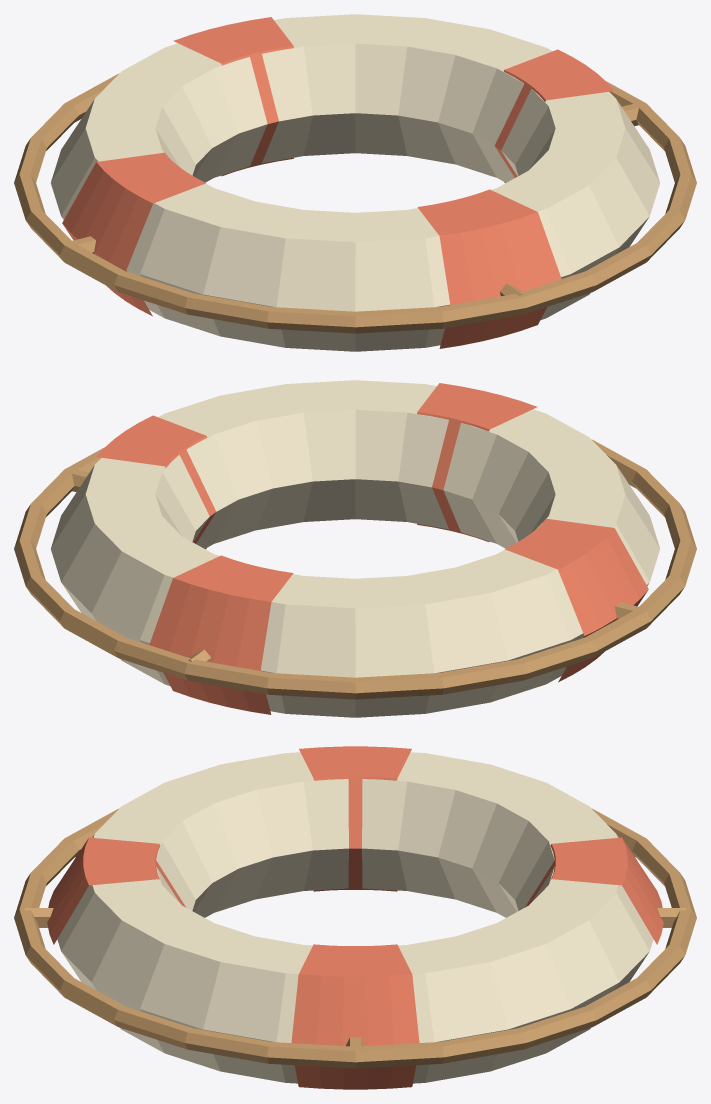
The model's file is life_ring_quiet_lake_fishing_22409.glb.
3 views of the same model, one above another, from view 1: azimuth 30°, elevation 25°; view 2: azimuth 150°, elevation 25°; view 3: azimuth 270°, elevation 25° (orthographic).
Parts seen in each view (by area): view 1: cream, coral, wood; view 2: cream, coral, wood; view 3: cream, coral, wood.
Part boxes in pixels (<box>): cream: <box>51,14,659,351</box>; coral: <box>62,17,614,348</box>; wood: <box>14,73,696,333</box>; cream: <box>51,380,659,717</box>; coral: <box>96,383,648,714</box>; wood: <box>14,439,696,699</box>; cream: <box>57,752,653,1083</box>; coral: <box>47,746,663,1089</box>; wood: <box>14,808,696,1068</box>.
Bounding box in the file's own units: 0.93 × 0.1698 × 0.93.
